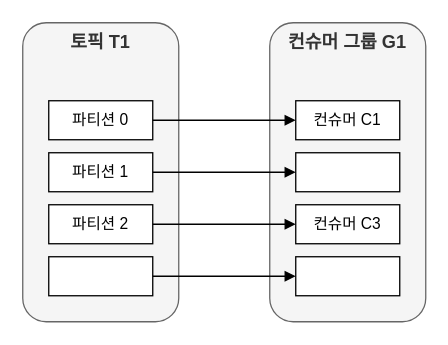
This 448x345 diagram has some shape labels left out. Here are the shapes that lost their labels. From the top down, the centre of each, then its label:
the point at 347,171: 컨슈머 C2
the point at 100,275: 파티션 3
the point at 347,275: 컨슈머 C4
